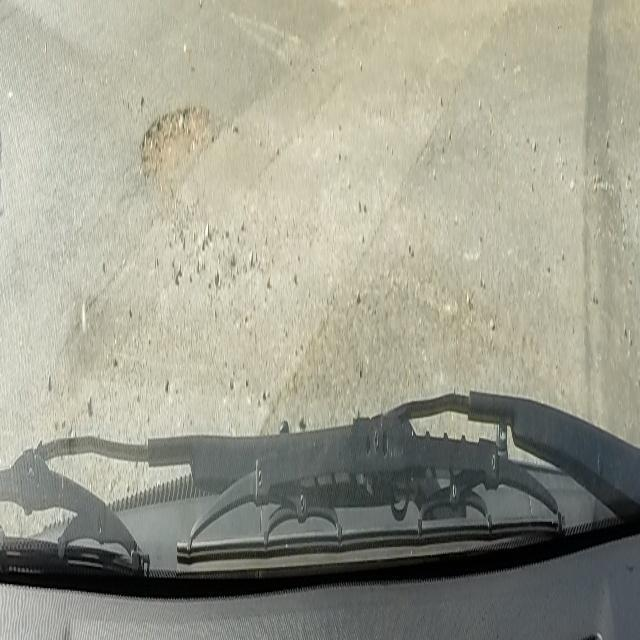pothole: (139, 107, 210, 180)
